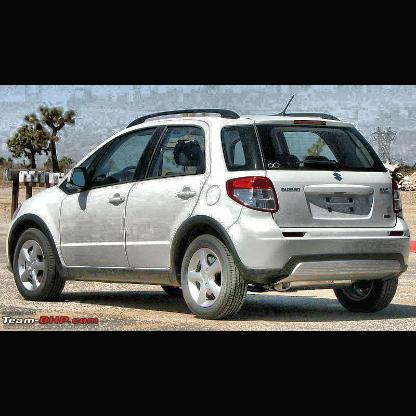Suzuki SX4 Hatchback 2012: (8, 95, 413, 320)
